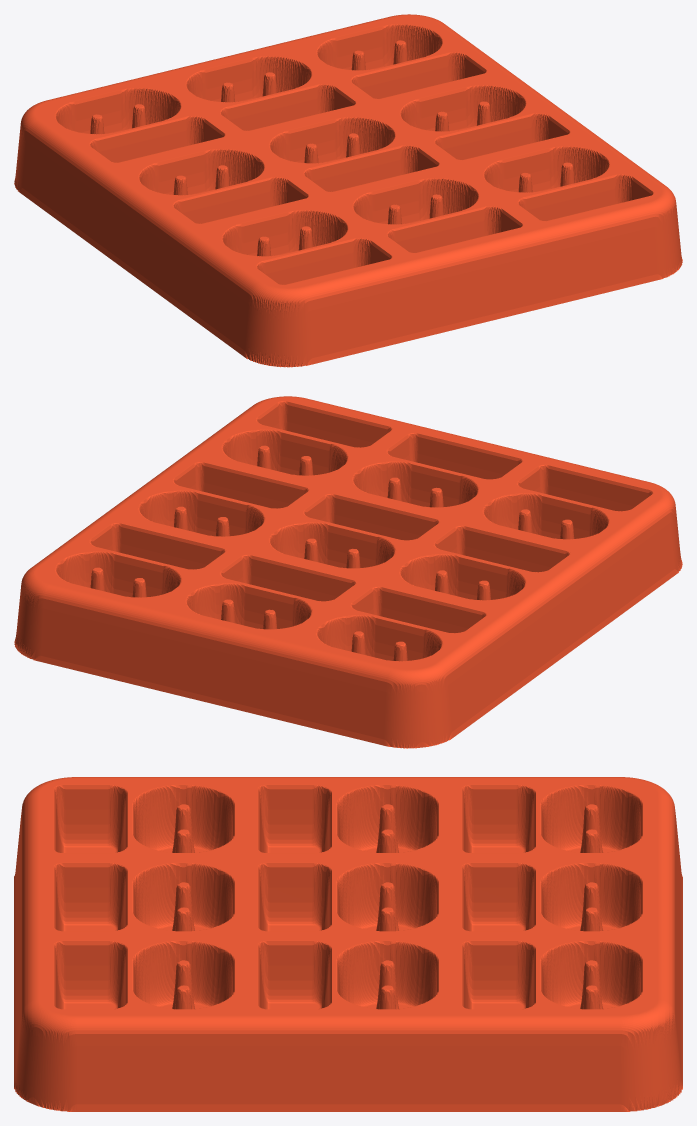
The model's file is mold.glb.
3 views of the same model, one above another, from view 1: azimuth 30°, elevation 25°; view 2: azimuth 150°, elevation 25°; view 3: azimuth 270°, elevation 25° (orthographic). The views are drawn at different scales.
Parts seen in each view (by area): view 1: geometry_0; view 2: geometry_0; view 3: geometry_0.
Boxes of the visible parts, left/top/right/bottom form: geometry_0: left=14, top=14, right=682, bottom=367; geometry_0: left=14, top=396, right=682, bottom=748; geometry_0: left=14, top=777, right=682, bottom=1111.
Size of the model in its own units: 0.088 by 0.0136 by 0.0964.
